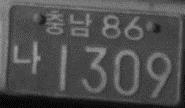0: (113, 47, 140, 98)
1: (59, 42, 70, 94)
3: (79, 46, 107, 94)
6: (123, 15, 143, 42)
8: (101, 13, 121, 40)
9: (146, 51, 172, 100)
나: (10, 39, 41, 76)
충남_O: (45, 8, 91, 39)
